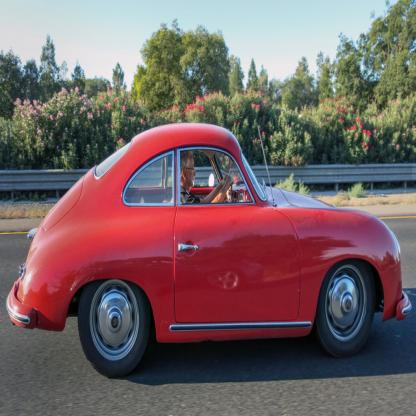Car: (7, 123, 413, 380)
